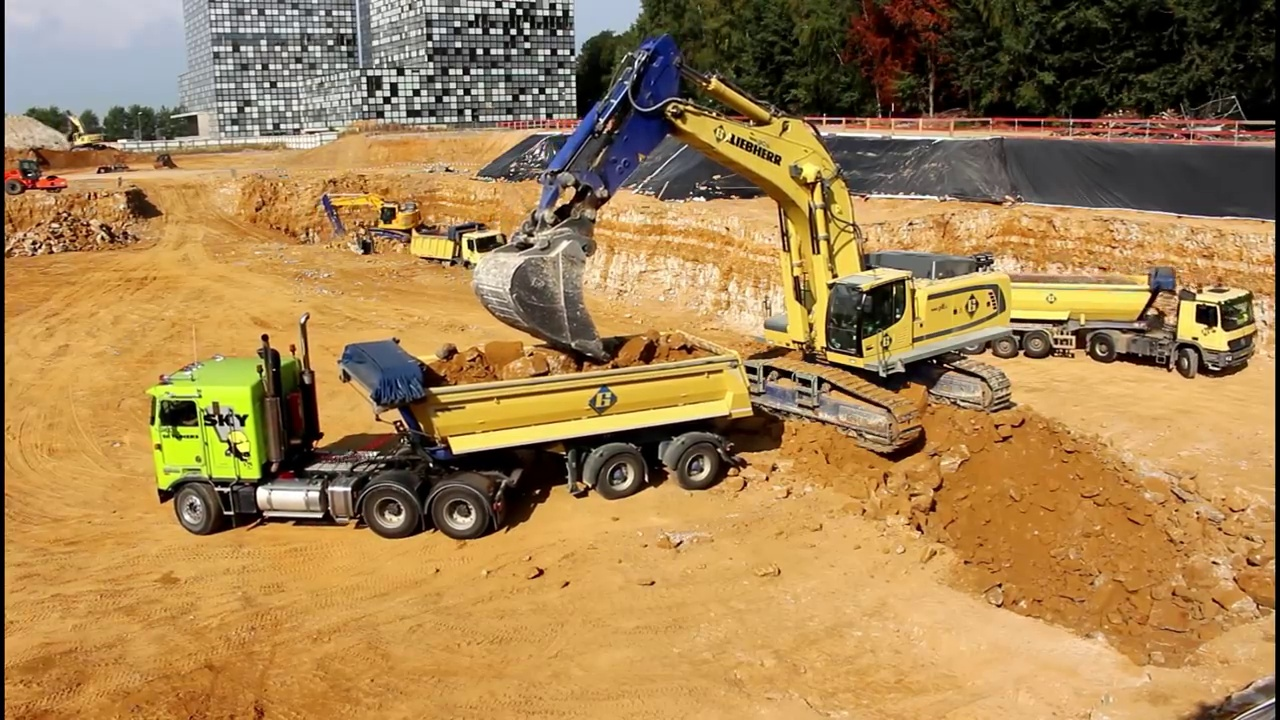compactor: (4, 159, 68, 195)
excavator: (470, 30, 1018, 458), (319, 189, 429, 257), (61, 109, 108, 154)
truck: (140, 307, 759, 541), (945, 261, 1260, 385), (409, 220, 512, 279)
